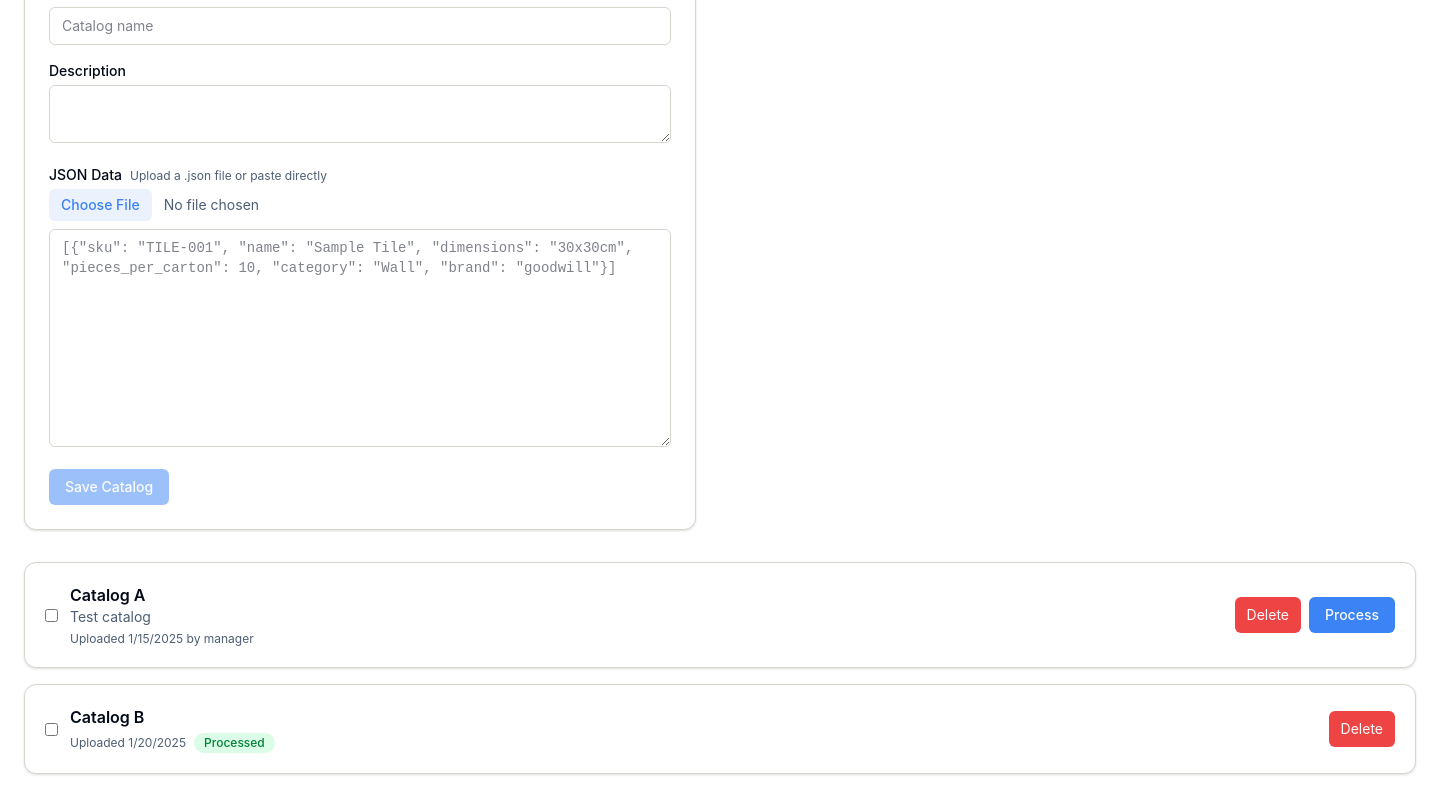
it: Catalogs › shows delete confirmation modal
The width and height of the screenshot is (1440, 798).
(page scrolled)
Expected: the heading "Catalog A" is shown, [70,585,146,605]
Click the button "Delete" in the row of "Test catalog".
click(1268, 615)  # box [1235,597,1301,633]
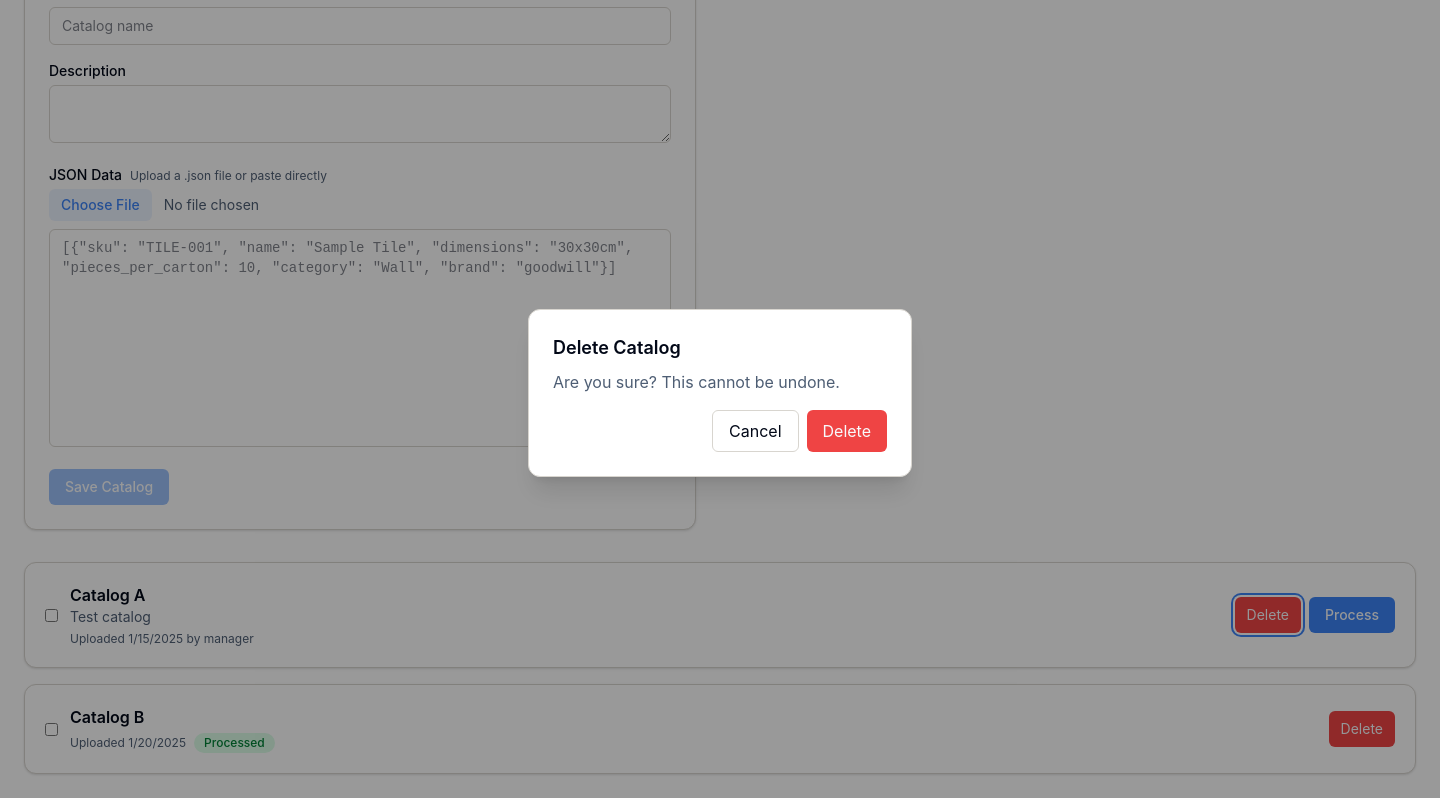
Now the text "Are you sure? This cannot be undone." is shown, box [553,370,887,394]
